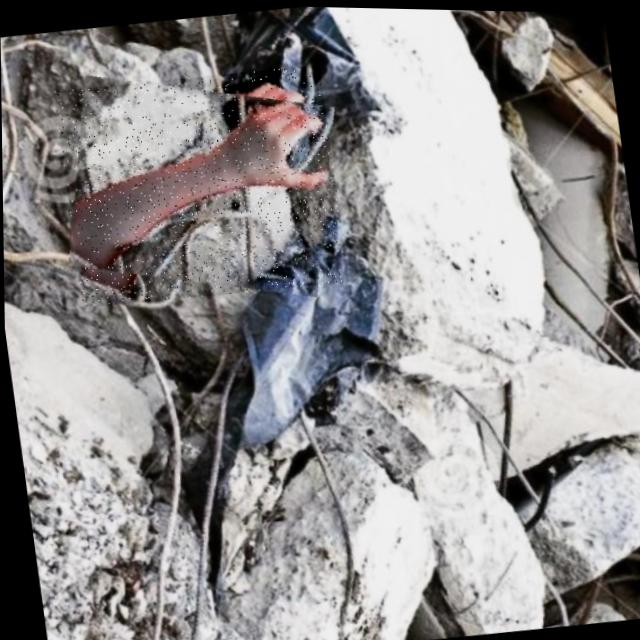Person in Rubble: (52, 58, 348, 313)
